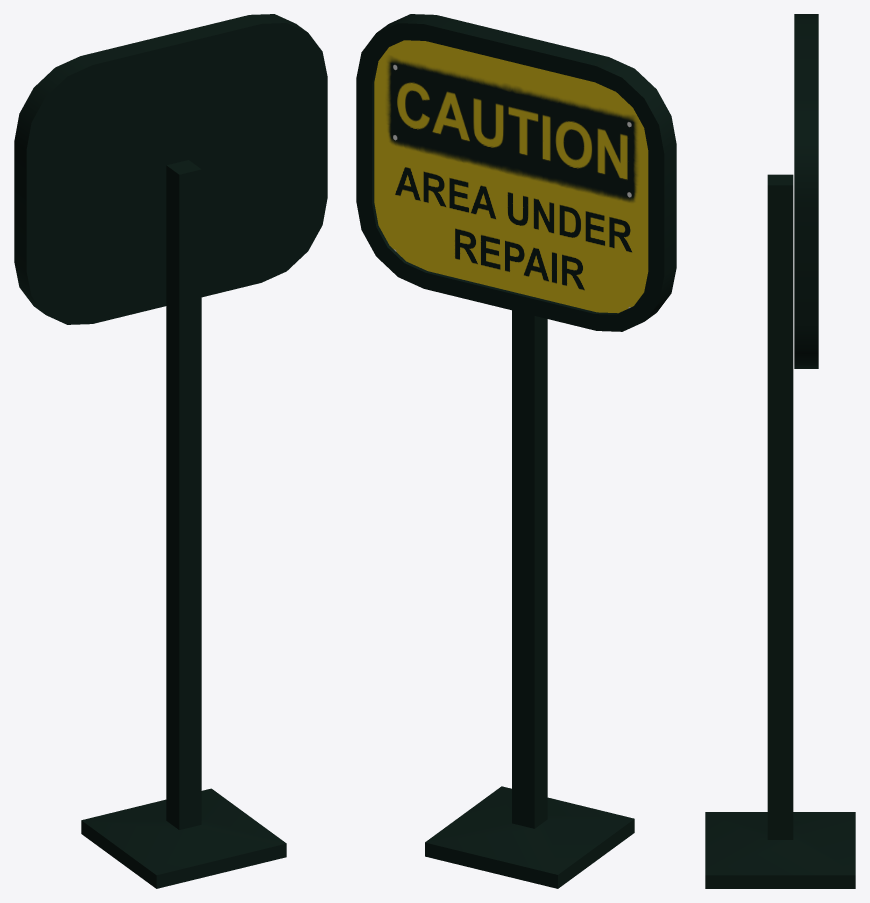
The model's file is billboard_001.fbx.
The picture shows the model from 3 angles, left to right: view 1: azimuth 30°, elevation 25°; view 2: azimuth 150°, elevation 25°; view 3: azimuth 270°, elevation 25°; orthographic projection. The views are drawn at different scales.
Visible parts, largest first — view 1: billboard.001; view 2: billboard.001; view 3: billboard.001.
Part boxes in pixels (<box>): billboard.001: <box>14,14,327,888</box>; billboard.001: <box>356,14,676,888</box>; billboard.001: <box>705,14,855,888</box>.
Bounding box in the file's own units: 81.8 × 207 × 35.37.
1 material, 1 textured.
